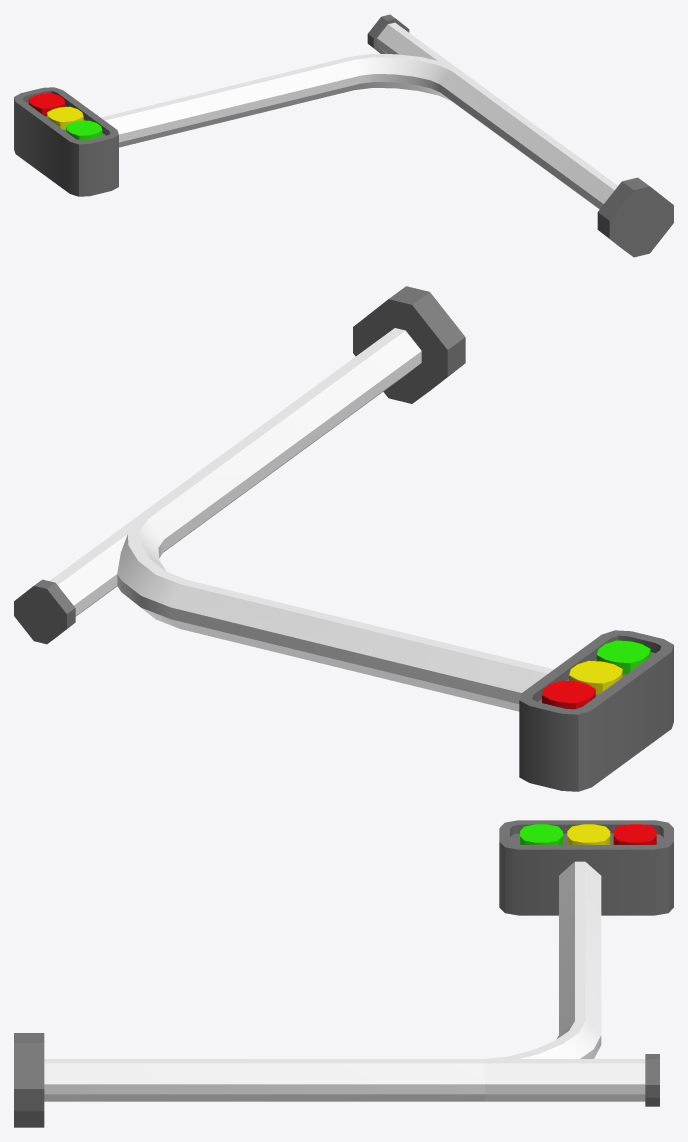
File: P_TrafficSignal02.fbx
The picture shows the model from 3 angles, top to bottom: view 1: azimuth 30°, elevation 25°; view 2: azimuth 150°, elevation 25°; view 3: azimuth 270°, elevation 25°; orthographic projection. The views are drawn at different scales.
Visible parts, largest first — view 1: TrafficLight_type02_01; view 2: TrafficLight_type02_01; view 3: TrafficLight_type02_01.
Part boxes in pixels (x1=…): TrafficLight_type02_01: x1=14, y1=14, x2=673, y2=257; TrafficLight_type02_01: x1=14, y1=286, x2=673, y2=791; TrafficLight_type02_01: x1=14, y1=820, x2=673, y2=1127.
Size of the model in its own units: 404 by 64.28 by 453.
